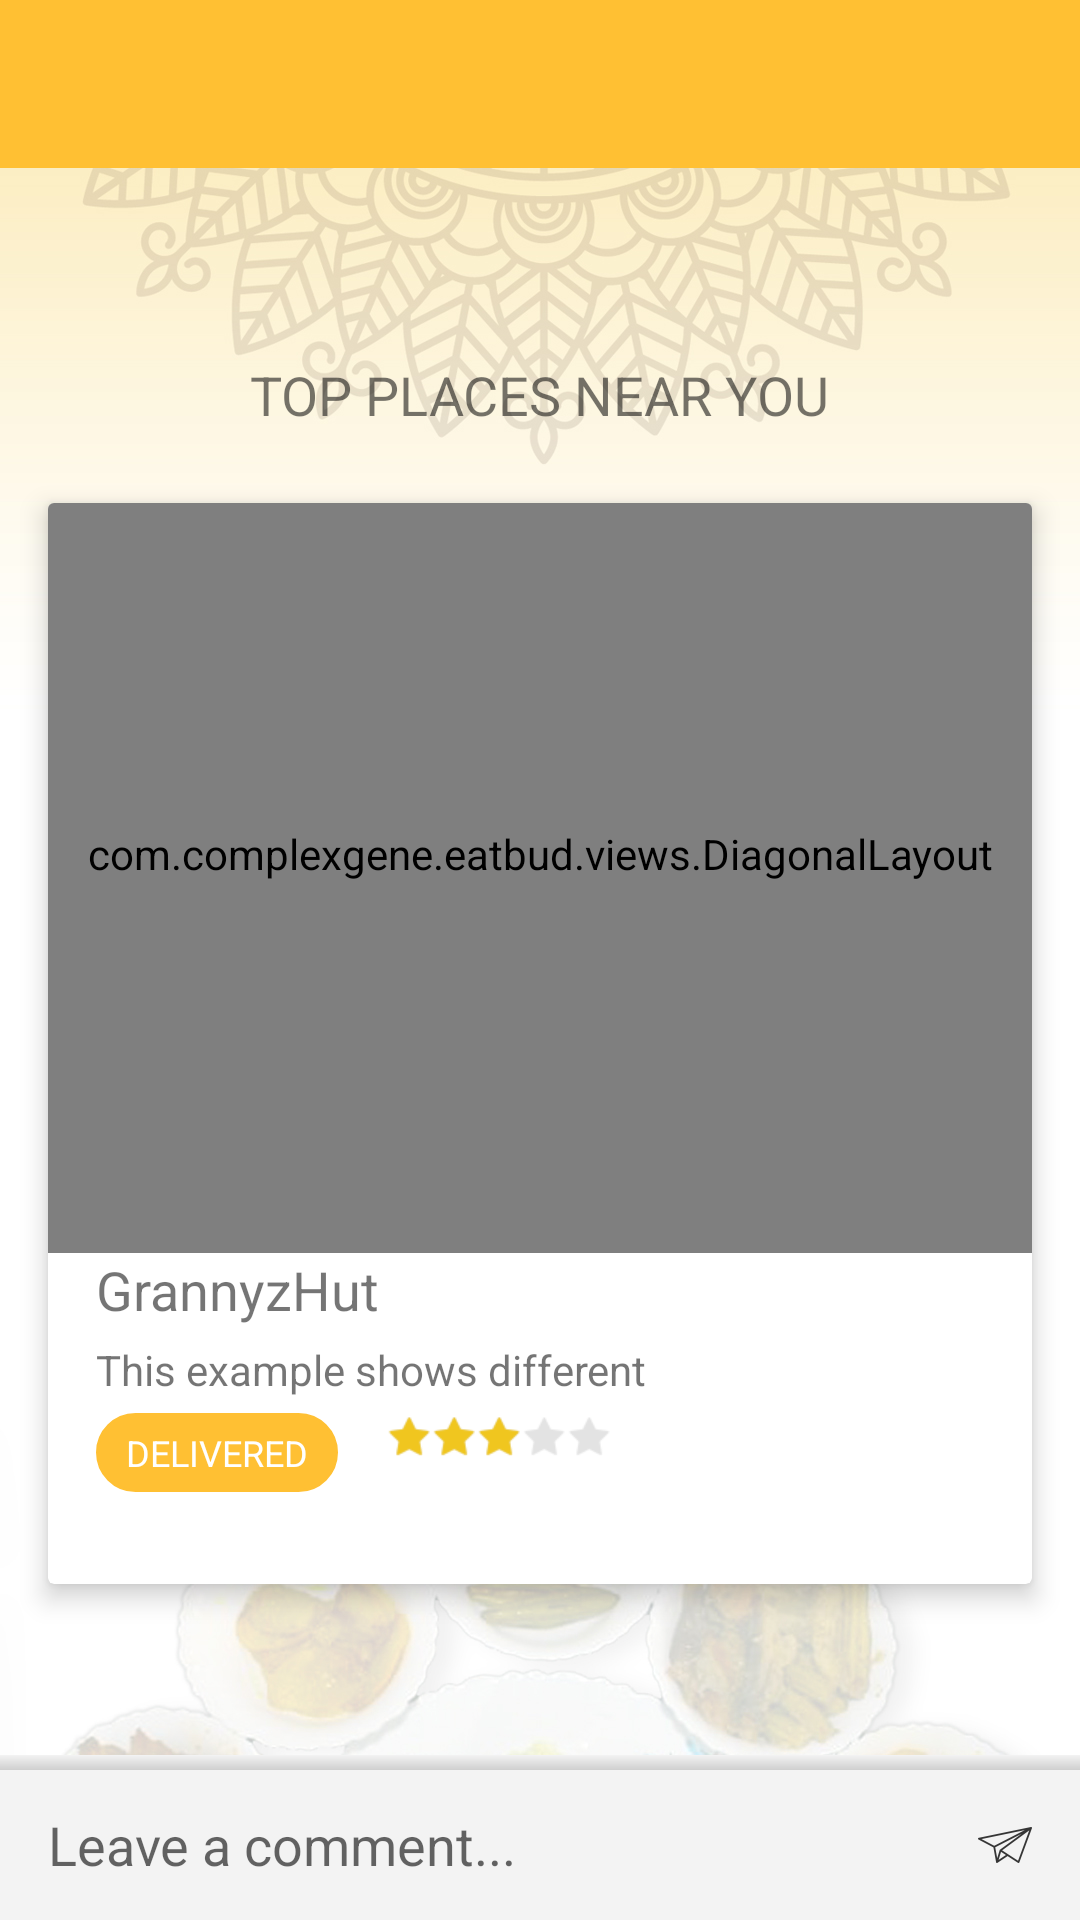

Icon click points for this 1080w x 1920h phone screenshot, format (x=x, y=y):
comment send: (x=1005, y=1845)
